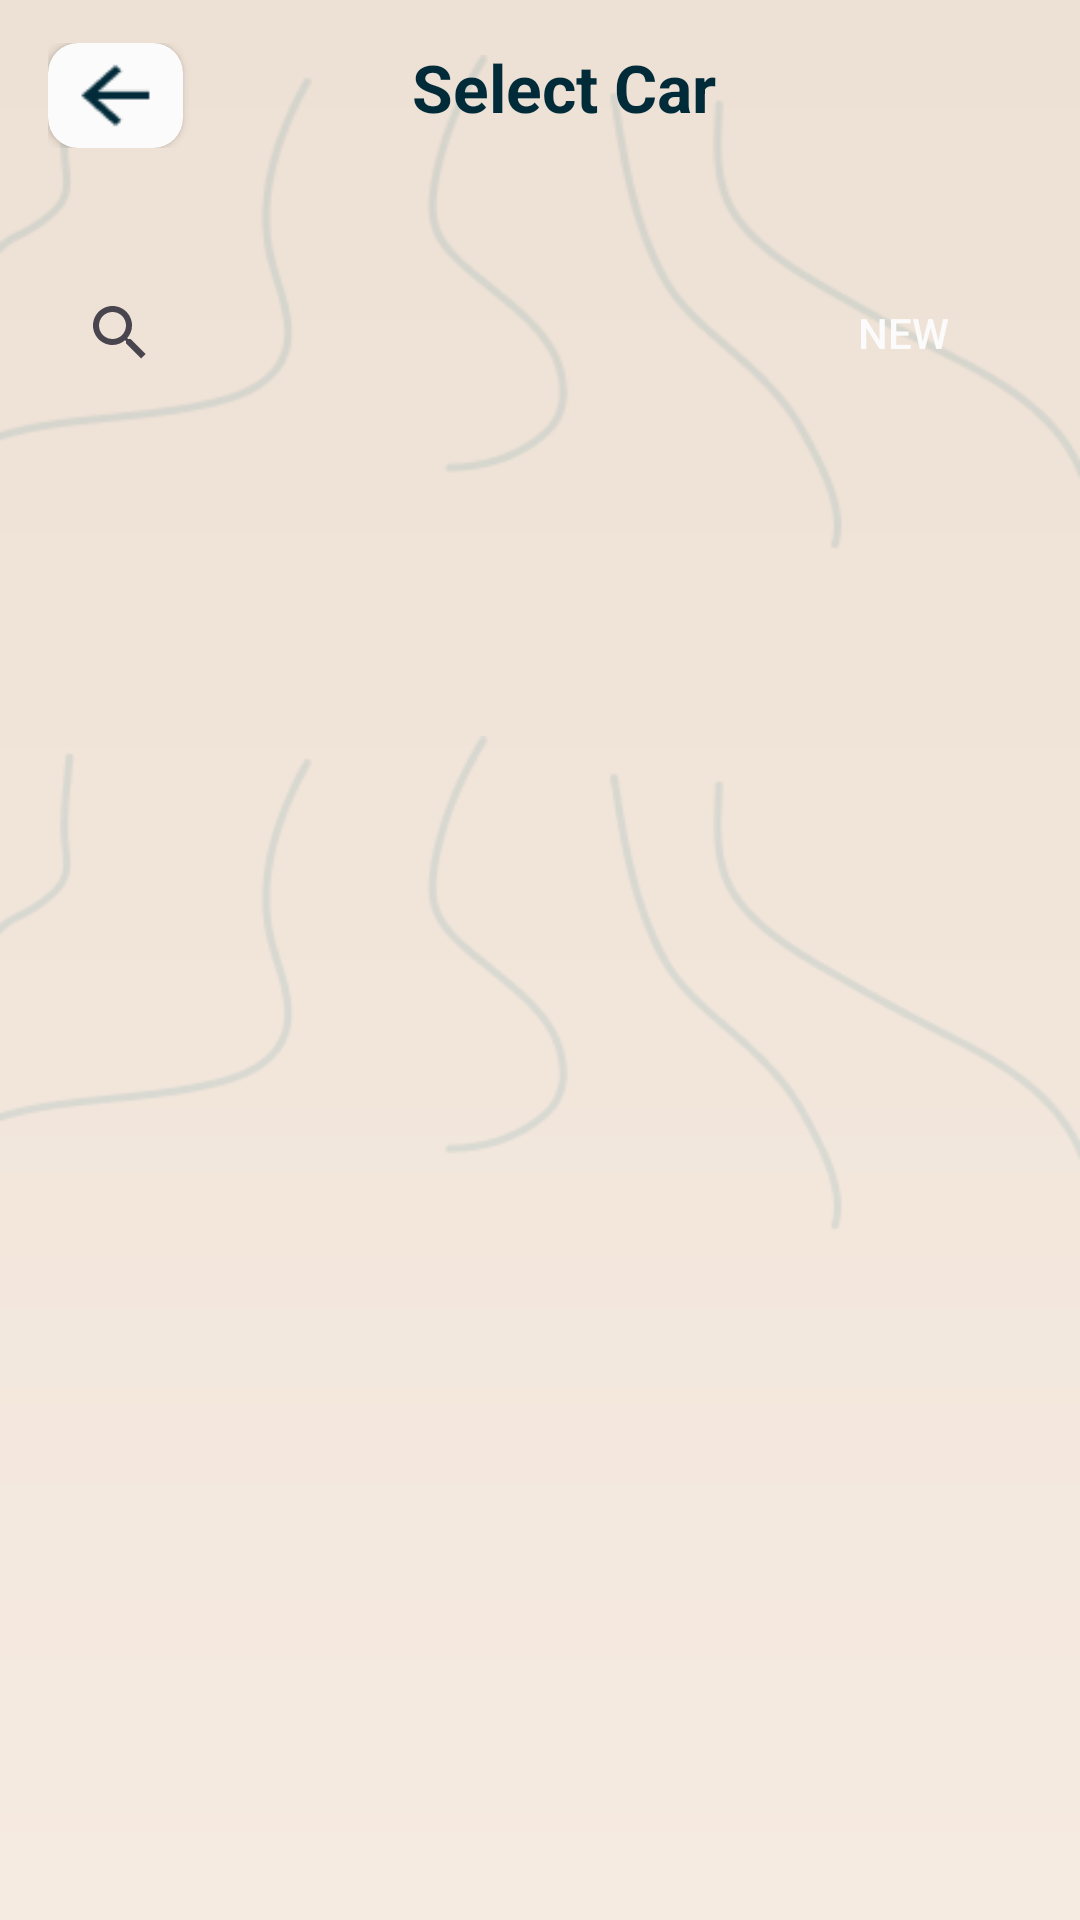

Point at icon controls on the screen. Image size 1080px×1920px, points as (x=x, y=y).
arrow: (x=115, y=95)
